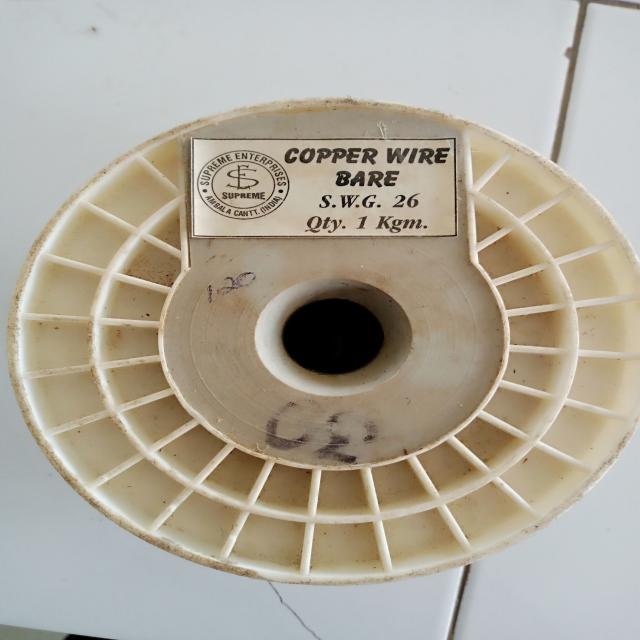Copper Wire: (8, 92, 637, 590)
